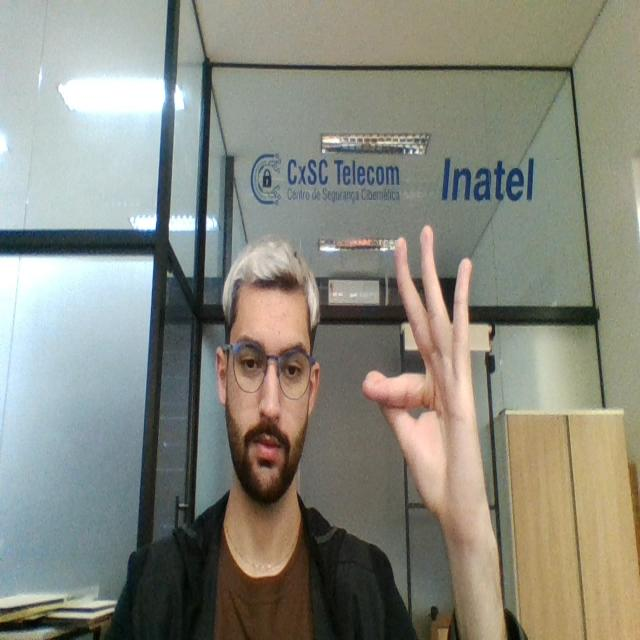F: (359, 219, 496, 553)
